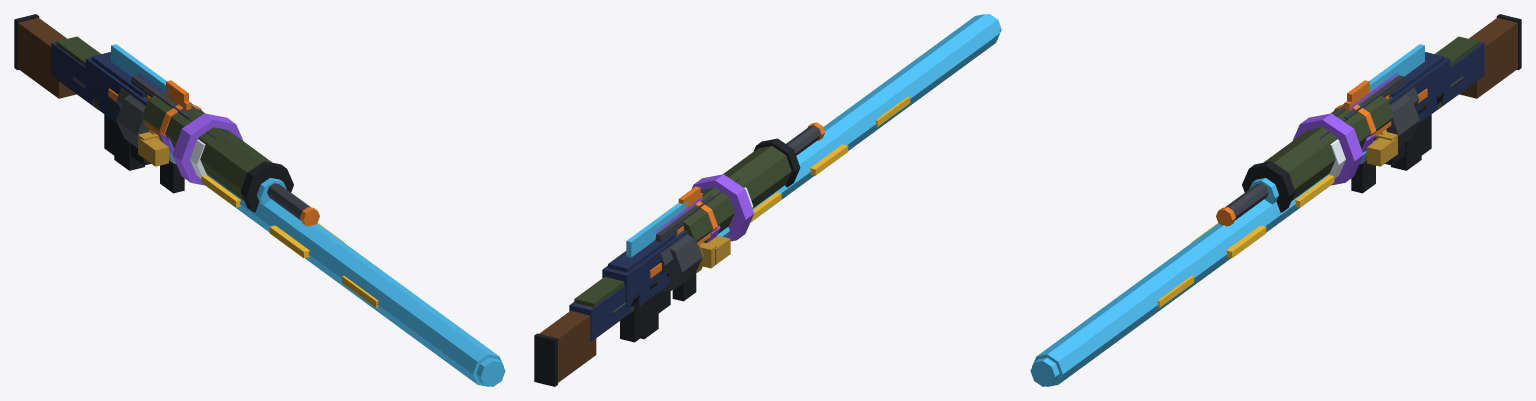
Rendered from weapons.glb.
3 renders of one model, left to right at view 1: azimuth 30°, elevation 25°; view 2: azimuth 150°, elevation 25°; view 3: azimuth 330°, elevation 25°, orthographic. The views are drawn at different scales.
Visible parts, largest first — view 1: Lightsaber, GrenadeLauncher, Shotgun, PlasmaRifle, GravityGun, FlameSword, Smg, Pistol; view 2: GrenadeLauncher, Lightsaber, Shotgun, PlasmaRifle, GravityGun, FlameSword, Pistol, Smg; view 3: Lightsaber, GrenadeLauncher, Shotgun, PlasmaRifle, GravityGun, FlameSword, Smg, Pistol.
Boxes of the visible parts, x1,y1,x2,y2 form: Lightsaber: (72, 76, 505, 386); GrenadeLauncher: (56, 36, 293, 212); Shotgun: (14, 14, 319, 226); PlasmaRifle: (51, 41, 286, 204); GravityGun: (103, 72, 243, 185); FlameSword: (138, 132, 378, 307); Smg: (131, 79, 230, 193); Pistol: (130, 75, 202, 165); GrenadeLauncher: (574, 138, 800, 339); Lightsaber: (612, 14, 1001, 314); Shotgun: (534, 122, 824, 386); PlasmaRifle: (569, 201, 688, 342); GravityGun: (640, 174, 754, 336); FlameSword: (700, 96, 910, 268); Pistol: (656, 193, 714, 312); Smg: (654, 175, 739, 301); Lightsaber: (1030, 76, 1463, 386); GrenadeLauncher: (1242, 36, 1479, 212); Shotgun: (1216, 14, 1521, 226); PlasmaRifle: (1249, 41, 1484, 204); GravityGun: (1292, 72, 1432, 185); FlameSword: (1157, 132, 1397, 307); Smg: (1305, 79, 1404, 193); Pistol: (1333, 75, 1405, 165).
Size of the model in its own units: 0.126 by 0.205 by 1.56.
1 material, 1 textured.
